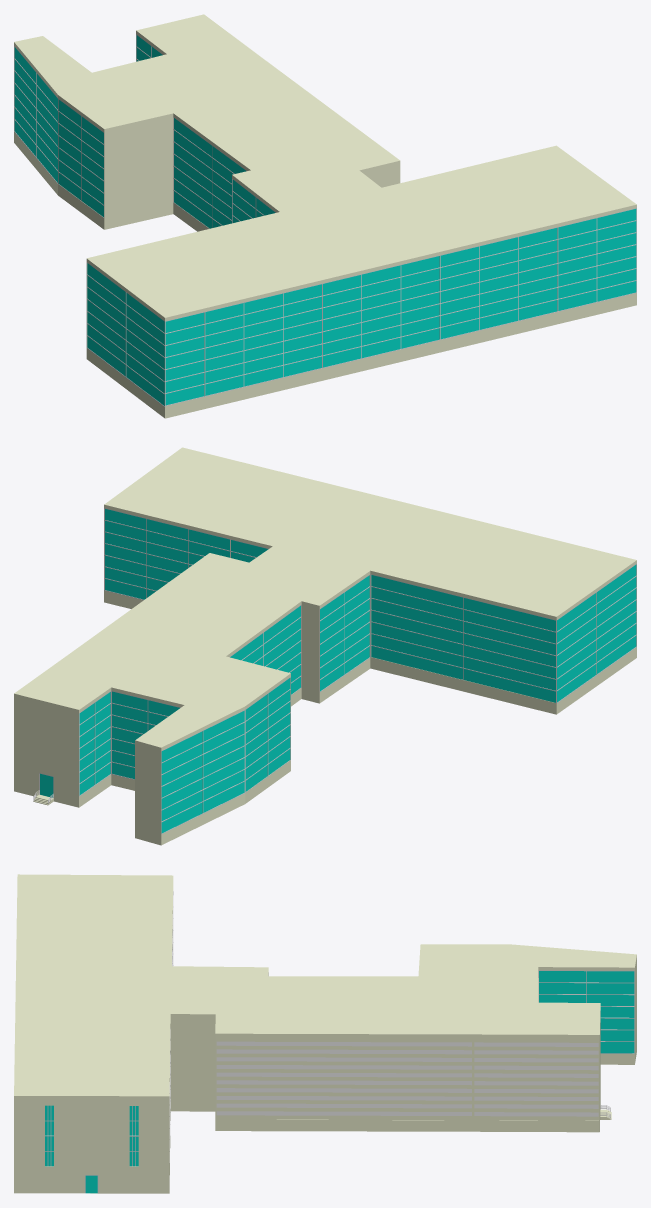
The model's file is Chemistry Building.fbx.
The picture shows the model from 3 angles, top to bottom: view 1: azimuth 30°, elevation 25°; view 2: azimuth 150°, elevation 25°; view 3: azimuth 270°, elevation 25°; orthographic projection. The views are drawn at different scales.
Visible parts, largest first — view 1: Chemistry Building.001; view 2: Chemistry Building.001; view 3: Chemistry Building.001.
Boxes of the visible parts, x1,y1,x2,y2 form: Chemistry Building.001: (14, 14, 636, 418); Chemistry Building.001: (14, 447, 636, 845); Chemistry Building.001: (14, 874, 636, 1193).
Size of the model in its own units: 7419 by 1519 by 8811.
